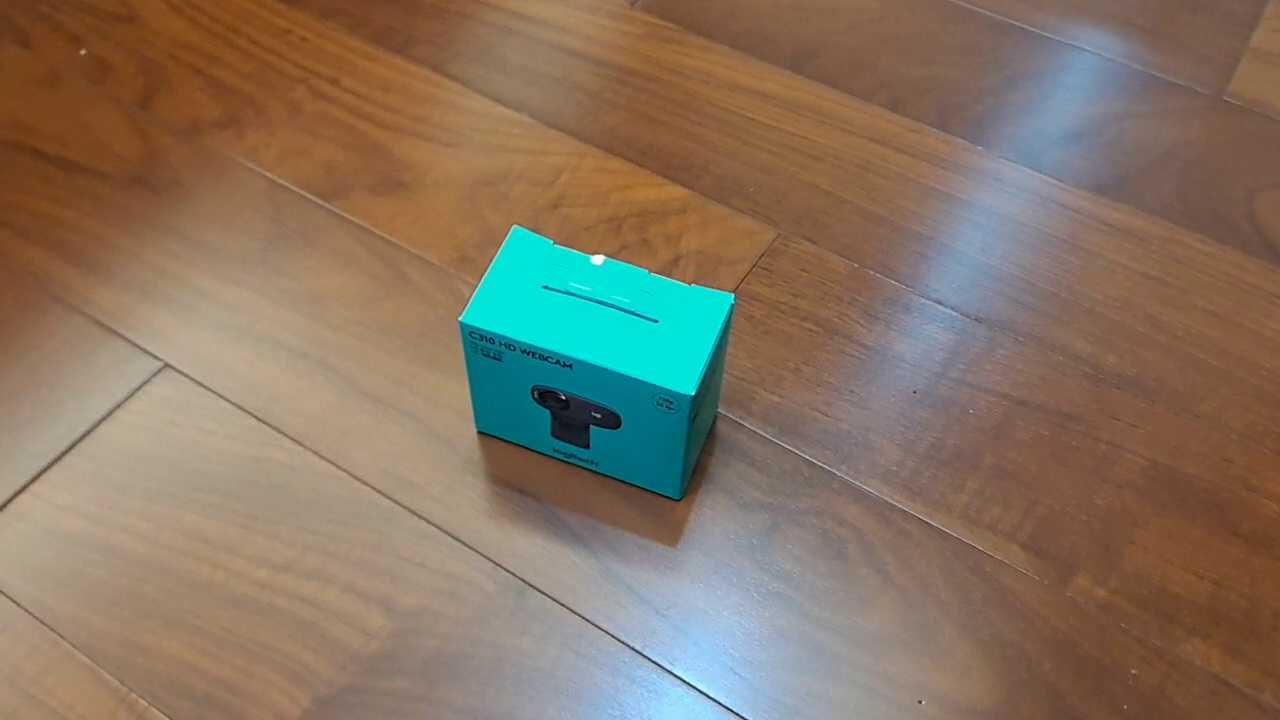webcam: (456, 223, 736, 502)
